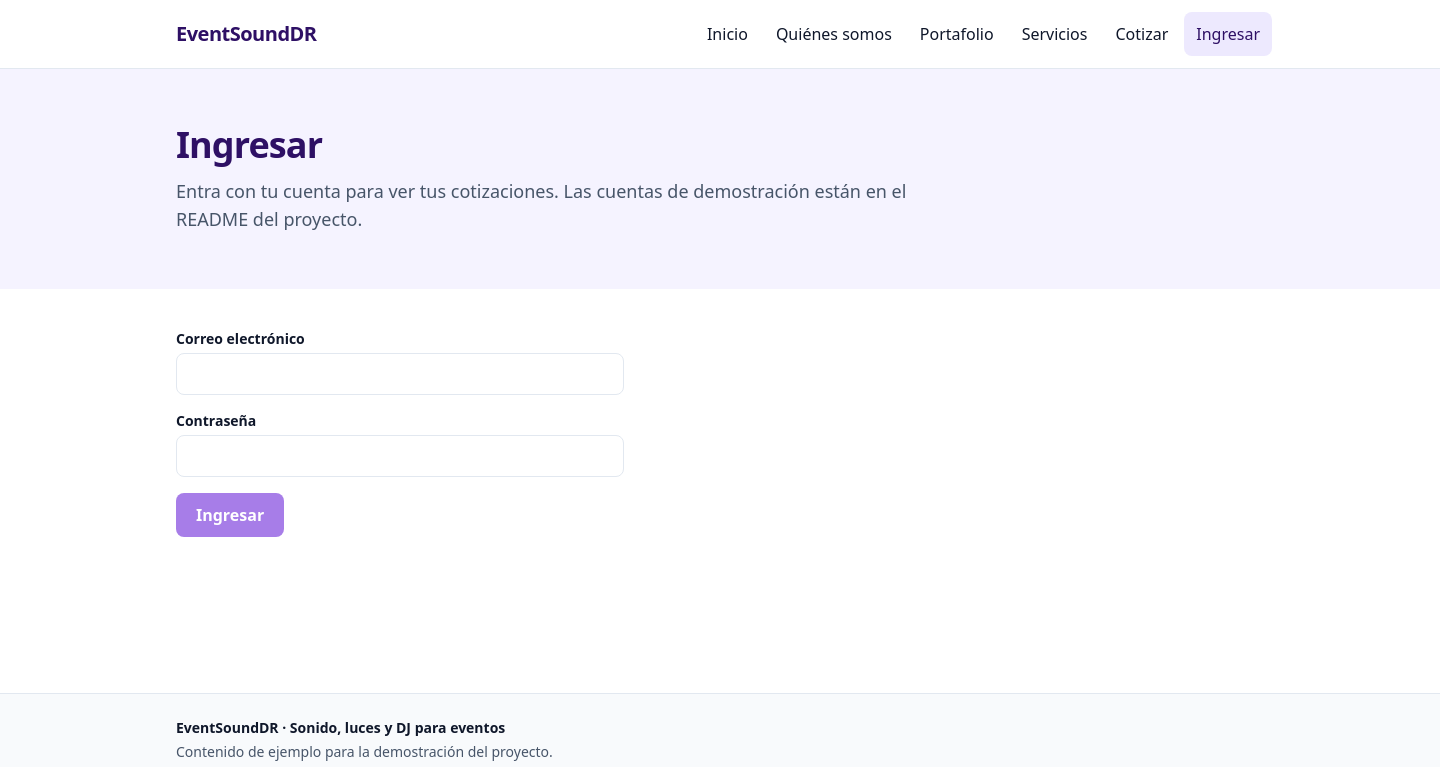
sign in › lands a client on their quotes, lists only their own, and offers no admin link
Type "cliente@eventsounddr.example" into the field labelled "Correo electrónico".
click(400, 374); type("cliente@eventsounddr.example")  # box [176,353,624,395]
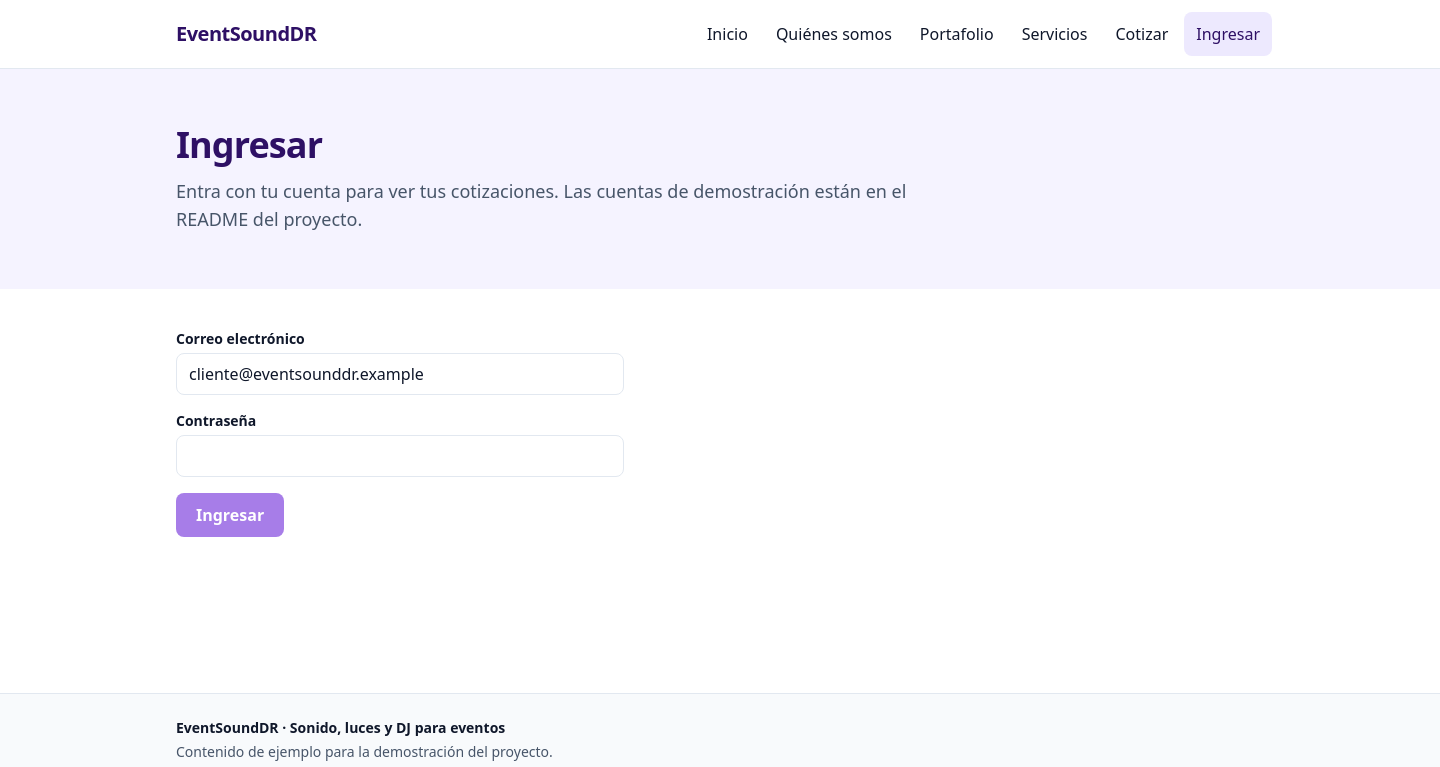
Type "demo-password" into the password field labelled "Contraseña".
click(400, 456); type("demo-password")  # box [176,435,624,477]
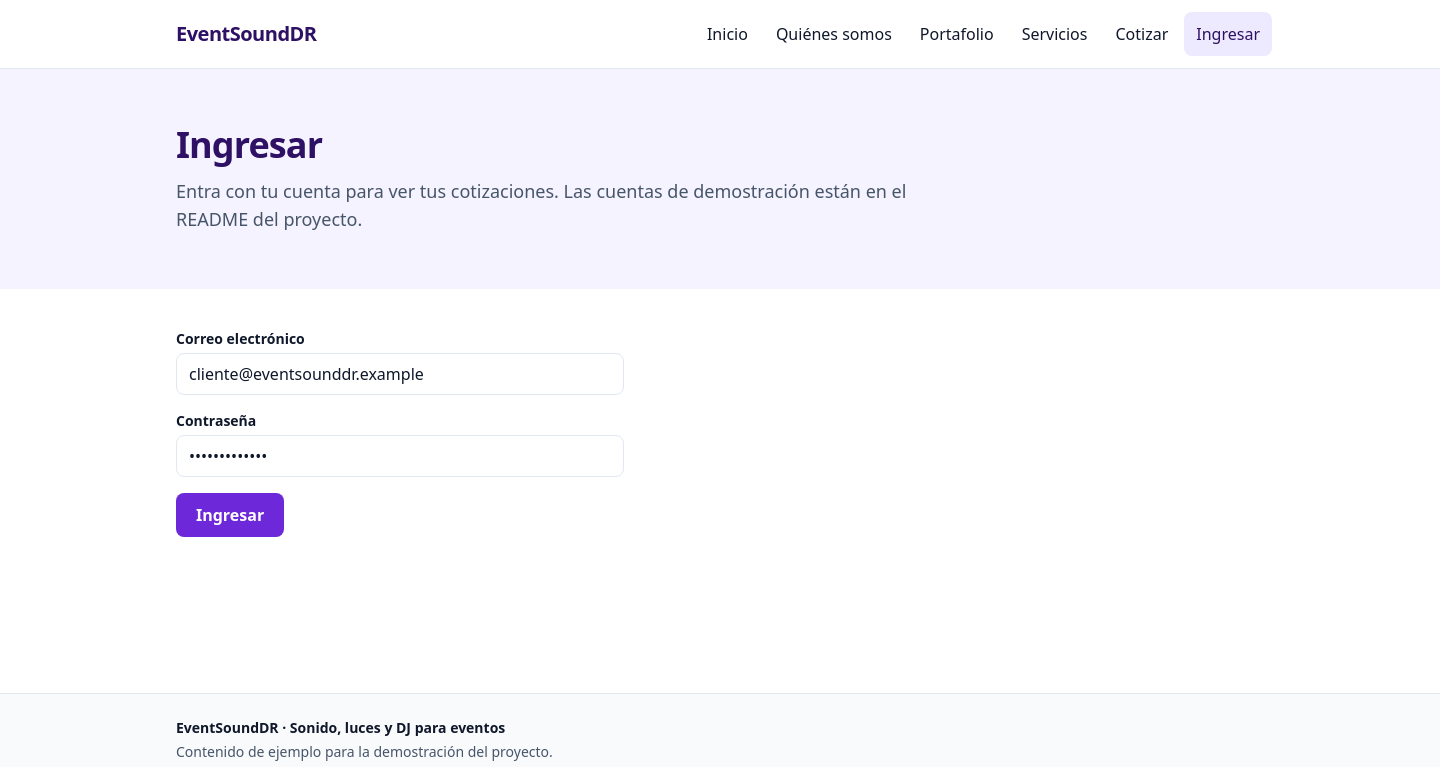
Click the button "Ingresar".
click(230, 515)  # box [176,493,284,537]
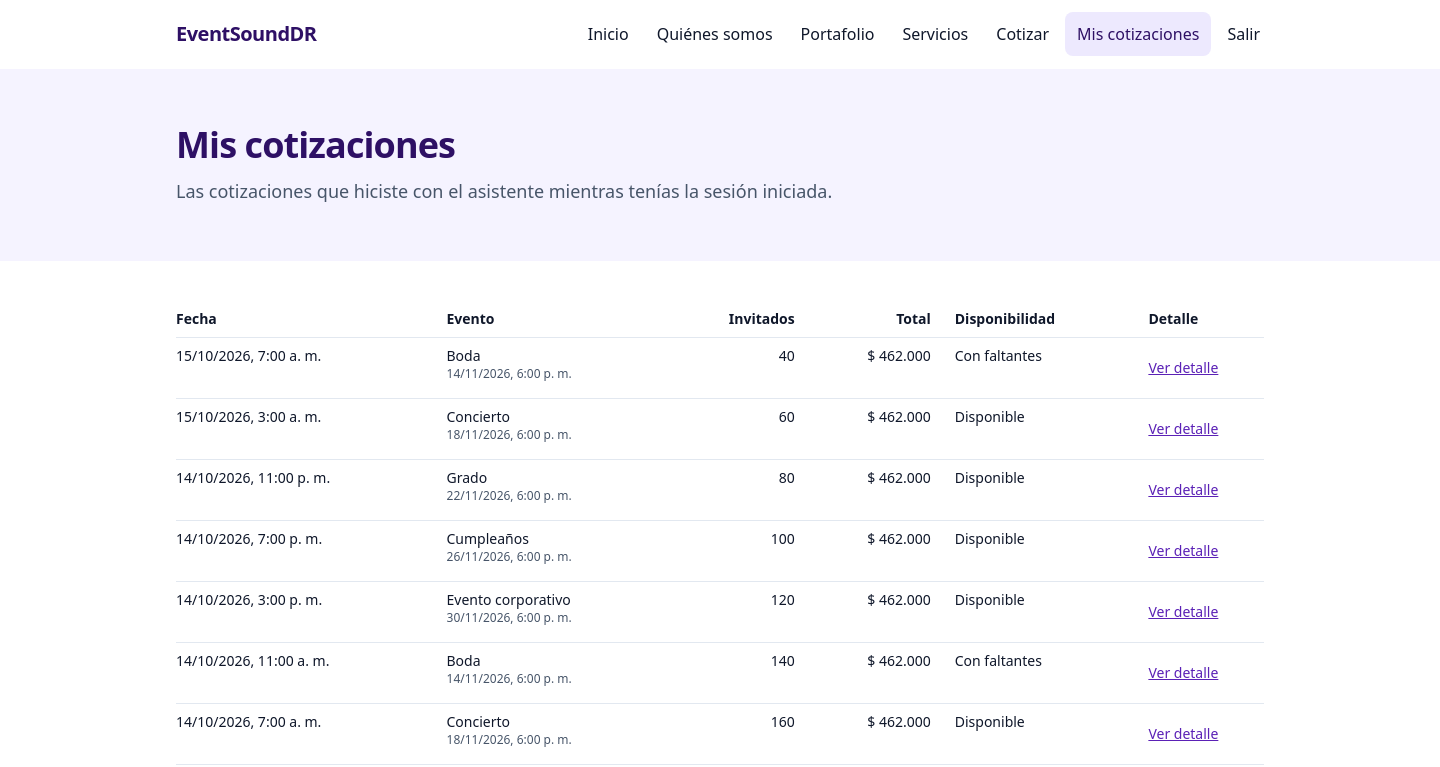
Check: the heading "Mis cotizaciones" is shown, box [176,120,455,169]
Check: the number of rows is 8
Check: the button "Salir" is shown, box [1215,12,1272,56]
